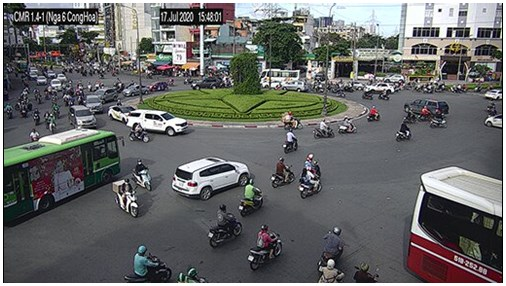xe_buyt: (3, 128, 119, 227), (407, 166, 503, 283), (262, 68, 300, 86)
xe_hoi: (173, 157, 251, 200), (127, 109, 189, 137), (402, 97, 450, 115), (67, 104, 96, 128), (108, 105, 139, 125), (120, 85, 149, 98), (364, 82, 395, 93), (280, 81, 310, 92), (190, 77, 219, 88), (95, 88, 117, 102), (85, 95, 102, 112), (485, 113, 502, 130), (148, 81, 168, 93), (485, 89, 502, 100), (51, 79, 61, 92), (36, 75, 46, 85), (56, 73, 68, 81), (46, 70, 55, 79)
xe_may: (125, 245, 172, 282), (247, 223, 282, 271), (208, 203, 242, 247), (317, 226, 344, 275), (112, 179, 140, 218), (298, 165, 324, 199), (270, 156, 295, 188), (132, 157, 153, 192), (316, 259, 343, 282), (351, 262, 380, 283), (313, 118, 335, 141), (281, 111, 304, 131), (283, 128, 299, 154), (393, 119, 411, 142), (338, 115, 357, 136), (304, 153, 321, 176), (428, 110, 447, 129), (415, 105, 432, 121), (360, 86, 375, 100), (367, 106, 378, 122), (32, 108, 42, 125), (402, 108, 415, 121), (48, 113, 56, 132), (5, 102, 13, 119), (52, 102, 60, 119), (378, 89, 389, 100), (335, 86, 346, 97), (19, 100, 26, 116), (29, 129, 39, 140), (76, 82, 85, 93), (35, 91, 42, 102), (85, 81, 91, 93), (94, 79, 102, 88)
